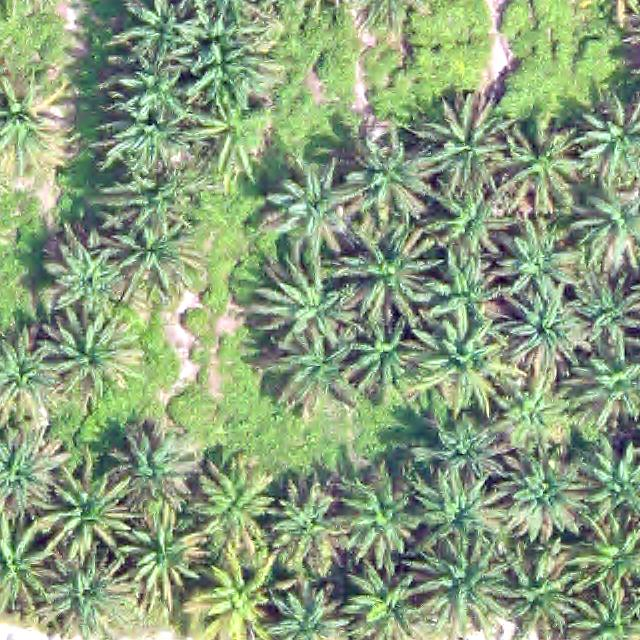oilpalm: (249, 253, 356, 351), (412, 535, 508, 628), (428, 91, 513, 189), (189, 547, 278, 639), (500, 116, 591, 205), (263, 482, 350, 573), (332, 471, 424, 557), (111, 206, 197, 297), (349, 124, 432, 218), (348, 233, 438, 318), (265, 166, 357, 249), (495, 536, 575, 631), (46, 225, 128, 314), (44, 310, 130, 394), (494, 224, 579, 308), (425, 186, 512, 266), (115, 49, 199, 131), (340, 560, 424, 640), (574, 95, 640, 196), (502, 453, 585, 532), (106, 99, 194, 173), (418, 315, 502, 392), (111, 153, 196, 229), (125, 512, 200, 596), (195, 455, 271, 536), (187, 36, 273, 107), (415, 476, 502, 544), (47, 560, 125, 632), (571, 278, 640, 356), (52, 465, 120, 543), (505, 297, 577, 370), (272, 333, 344, 405), (576, 523, 640, 602), (429, 421, 504, 486), (112, 424, 178, 493), (350, 326, 419, 392), (584, 446, 640, 524), (268, 592, 347, 640), (125, 0, 192, 55), (585, 358, 640, 421), (499, 386, 560, 437)
